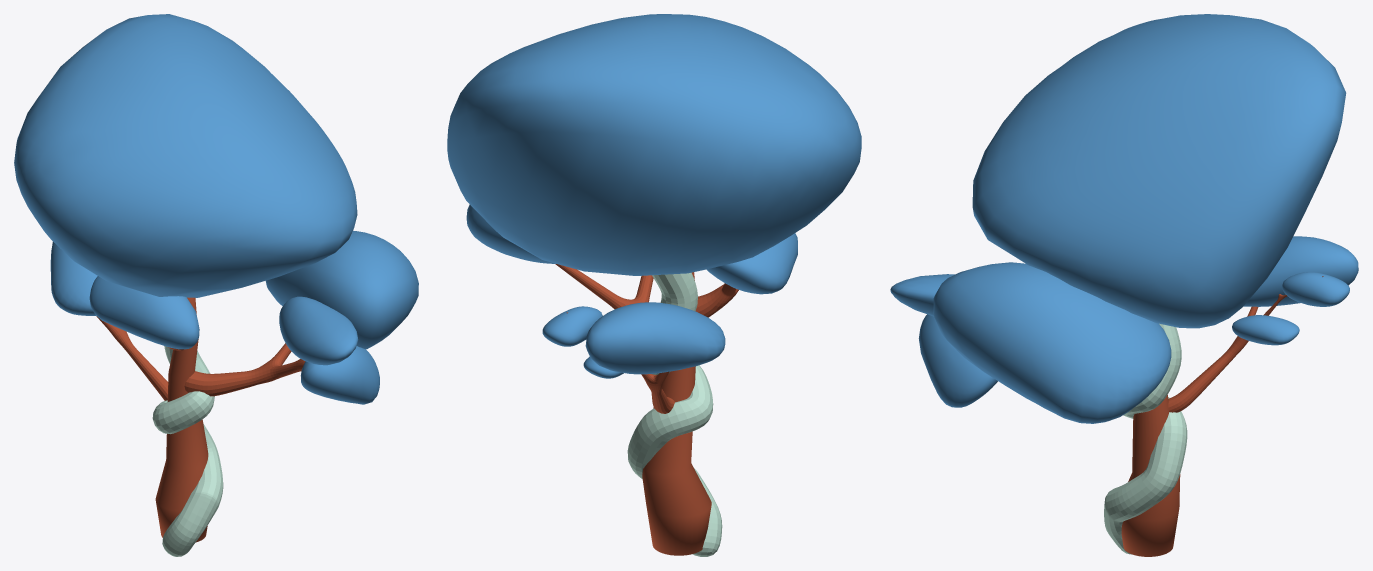
Rendered from tree_3.fbx.
3 renders of one model, left to right at view 1: azimuth 30°, elevation 25°; view 2: azimuth 150°, elevation 25°; view 3: azimuth 270°, elevation 25°, orthographic. The views are drawn at different scales.
Visible parts, largest first — view 1: Sphere.019, Sphere.015, Cylinder.007, Sphere.020, Cylinder.005, Sphere.021, Cylinder.006, Sphere.018, Sphere.016; view 2: Sphere.019, Sphere.016, Cylinder.005, Cylinder.007, Sphere.020, Cylinder.006, Sphere.022, Sphere.015; view 3: Sphere.019, Sphere.015, Cylinder.007, Cylinder.005, Sphere.016, Sphere.018, Sphere.022, Cylinder.006, Sphere.017, Sphere.021.
Part boxes in pixels (x1,y1,x2,y2): Sphere.019: [14, 14, 357, 297]; Sphere.015: [265, 230, 418, 349]; Cylinder.007: [152, 346, 223, 556]; Sphere.020: [89, 276, 199, 349]; Cylinder.005: [155, 297, 208, 542]; Sphere.021: [279, 296, 358, 365]; Cylinder.006: [96, 316, 305, 400]; Sphere.018: [300, 346, 379, 404]; Sphere.016: [50, 242, 97, 315]; Sphere.019: [447, 14, 861, 275]; Sphere.016: [585, 302, 725, 374]; Cylinder.005: [642, 272, 711, 555]; Cylinder.007: [627, 272, 722, 556]; Sphere.020: [706, 233, 797, 294]; Cylinder.006: [555, 264, 738, 413]; Sphere.022: [542, 306, 602, 346]; Sphere.015: [466, 204, 555, 263]; Sphere.019: [972, 14, 1346, 328]; Sphere.015: [933, 262, 1171, 423]; Cylinder.007: [1104, 323, 1187, 554]; Cylinder.005: [1121, 395, 1180, 556]; Sphere.016: [1243, 236, 1358, 306]; Sphere.018: [918, 314, 997, 407]; Sphere.022: [1282, 272, 1349, 306]; Cylinder.006: [1168, 276, 1323, 412]; Sphere.017: [1232, 315, 1299, 345]; Sphere.021: [890, 274, 954, 316].
Bounding box in the file's own units: 2388 × 3114 × 2514.
